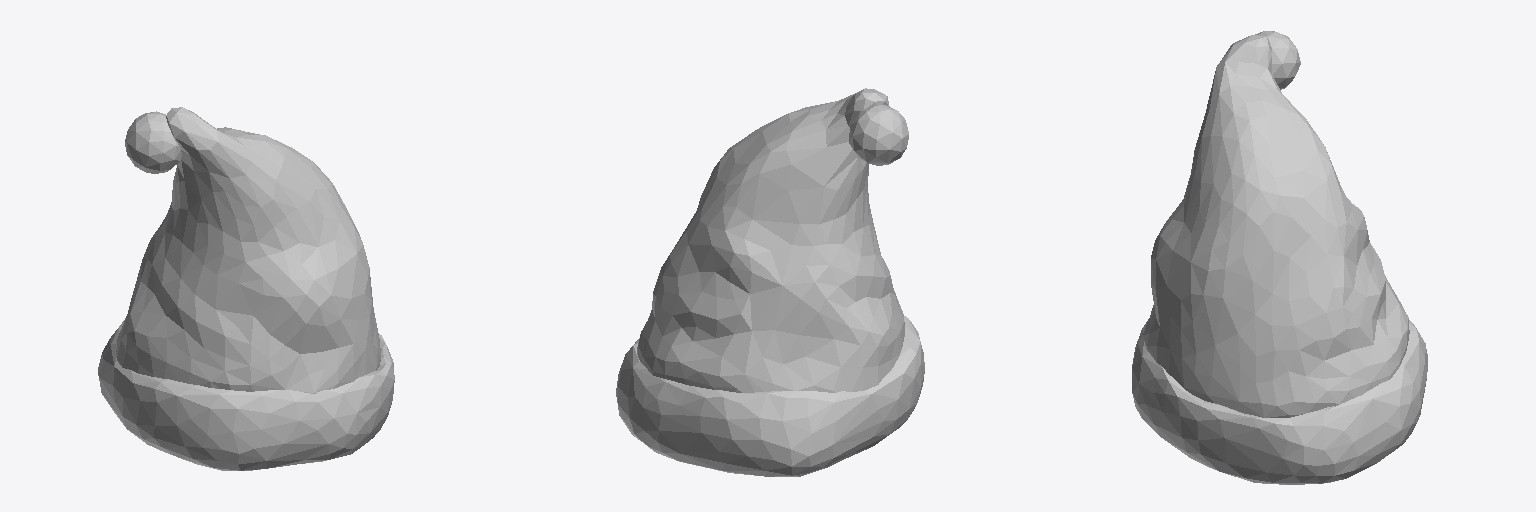
Rendered from clowp.OBJ.
3 views of the same model, side by side, from view 1: azimuth 30°, elevation 25°; view 2: azimuth 150°, elevation 25°; view 3: azimuth 270°, elevation 25° (orthographic).
Visible parts, largest first — view 1: Group42688; view 2: Group42688; view 3: Group42688.
Part boxes in pixels (x1,y1,x2,y2): Group42688: (98,107,394,470); Group42688: (616,88,924,476); Group42688: (1132,31,1427,484).
Bounding box in the file's own units: 2.25 × 2.88 × 2.19.